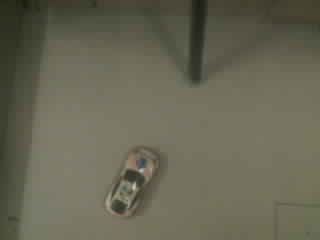Car: (105, 147, 157, 217)
